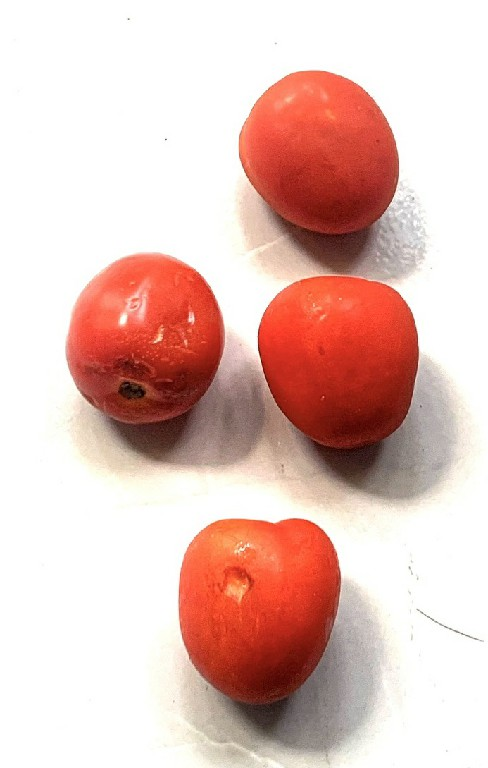NG: (175, 516, 345, 704), (59, 245, 229, 428)
OK: (236, 66, 411, 240), (253, 275, 426, 451)
